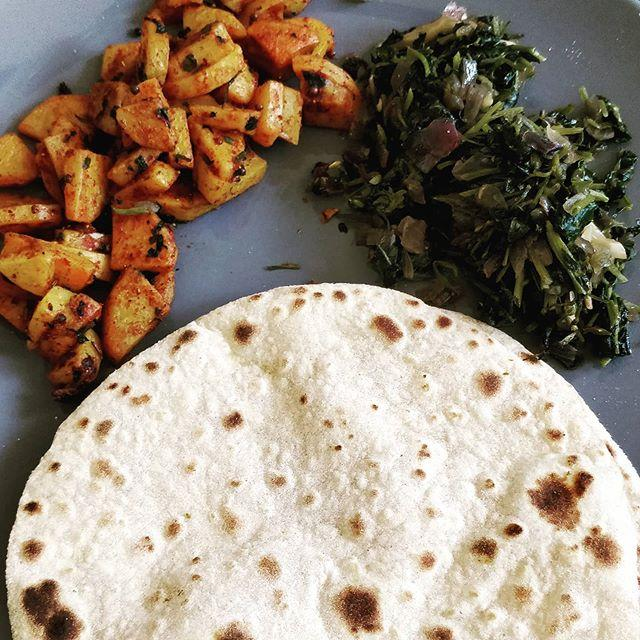Roti: (2, 291, 622, 628)
